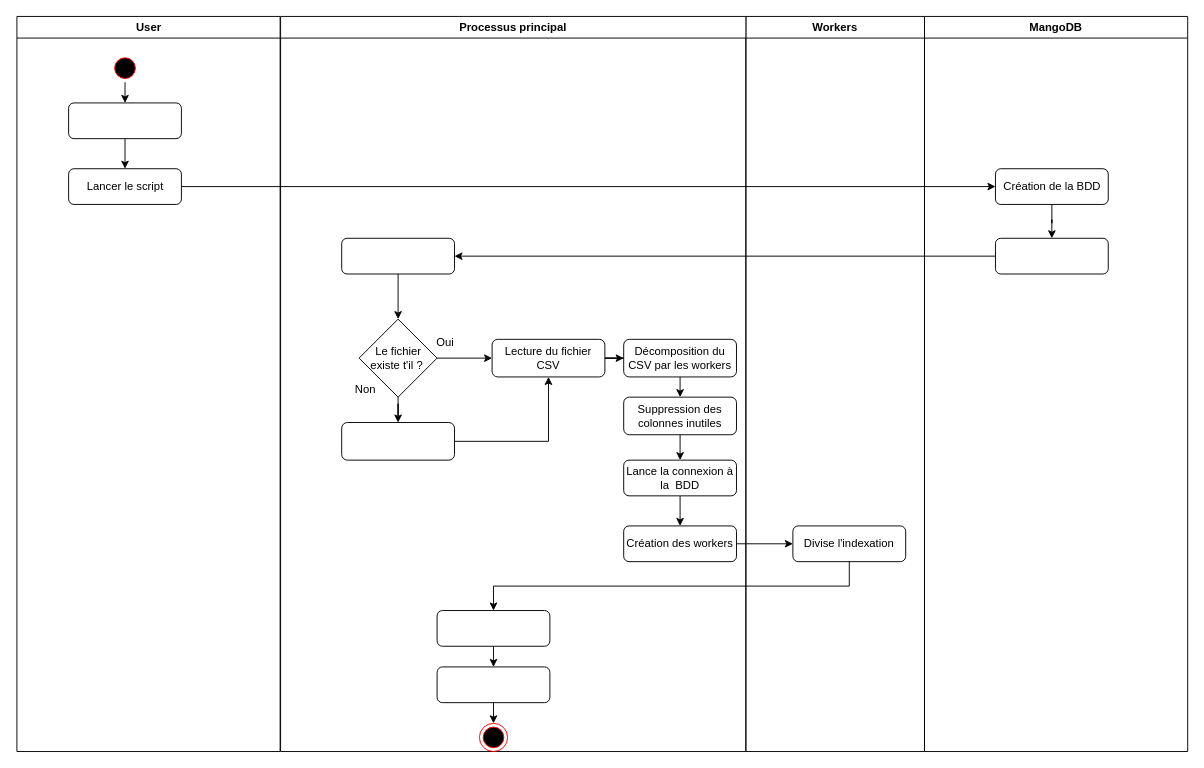
This 1204x768 diagram has some shape labels left out. The shapes that lost their labels are listed below. From the top down, each one's centre as x and y in pixels, then its label:
pixel 124 120: Téléchargement CSV
pixel 397 255: Lancement du processus
pixel 1051 255: Création de la collection
pixel 397 441: Chargement du ficher CSV
pixel 493 628: Arrêt des workers
pixel 493 684: Arrêt de la base
